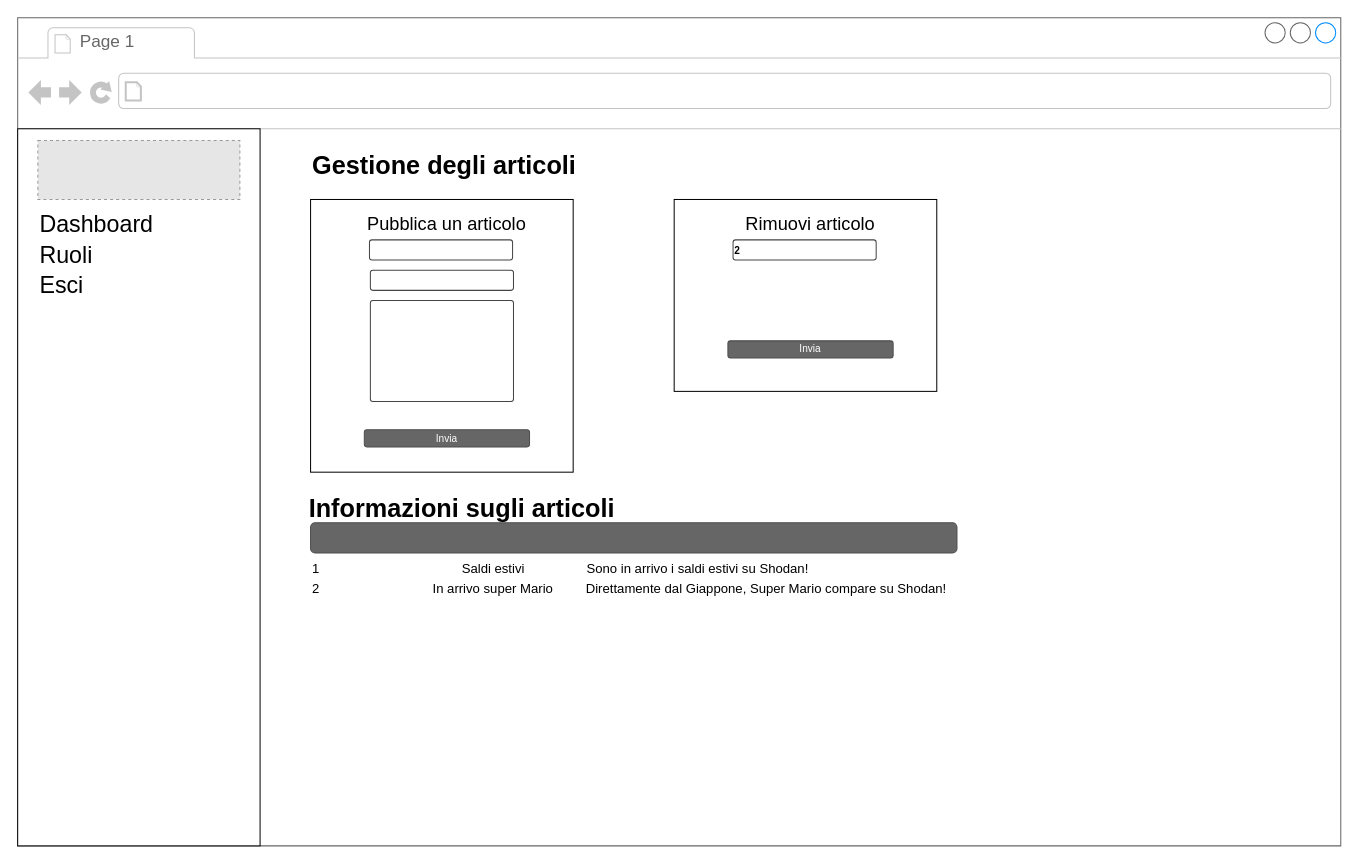
Image size: 1358x864. Some labels were removed from this diagram. Grey dashed boxes stand in for pictures. Each missing label, with the centre of its shape:
"https://www.default.com" belongs at point (274, 91).
"ID articolo Titolo articolo Sottotitolo articolo" belongs at point (633, 537).
